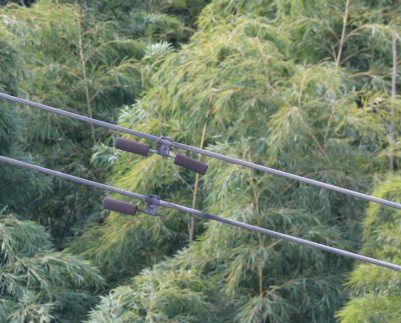damper: (112, 132, 209, 176)
damper_defect: (98, 191, 168, 219)
